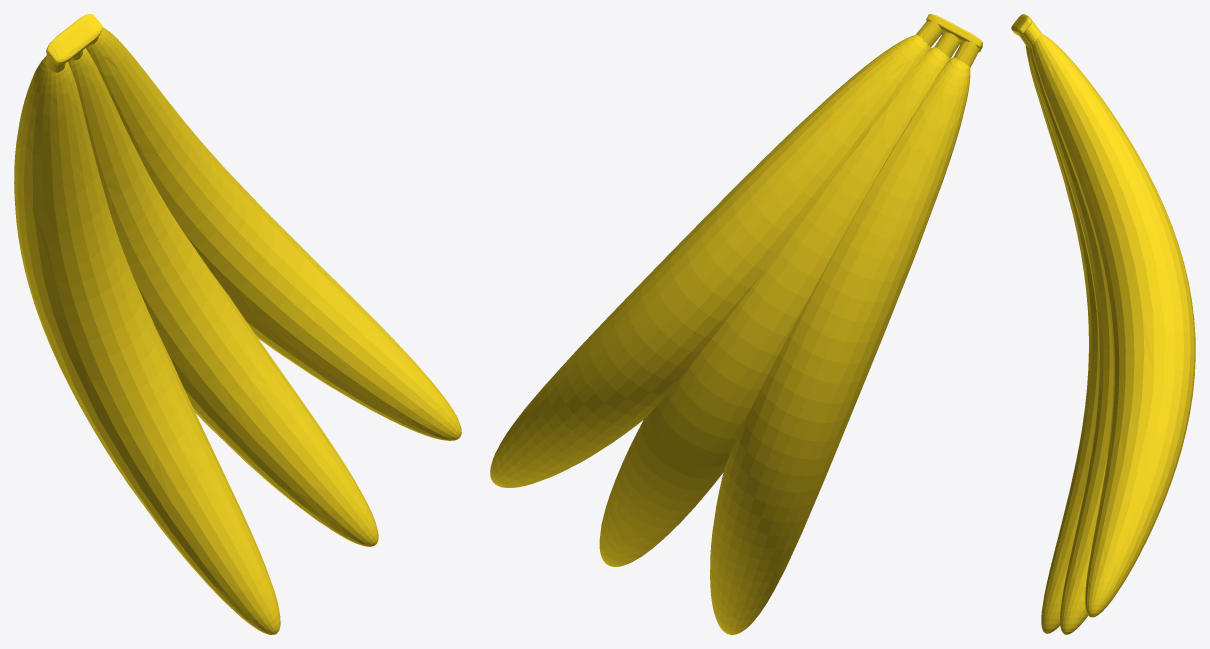
Rendered from tinker.obj.
3 renders of one model, left to right at view 1: azimuth 30°, elevation 25°; view 2: azimuth 150°, elevation 25°; view 3: azimuth 270°, elevation 25°, orthographic. The views are drawn at different scales.
Visible parts, largest first — view 1: obj_0; view 2: obj_0; view 3: obj_0.
Part boxes in pixels (x1,y1,x2,y2): obj_0: [14, 14, 461, 634]; obj_0: [490, 14, 982, 634]; obj_0: [1011, 14, 1195, 634].
Bounding box in the file's own units: 104 × 147 × 45.48.
